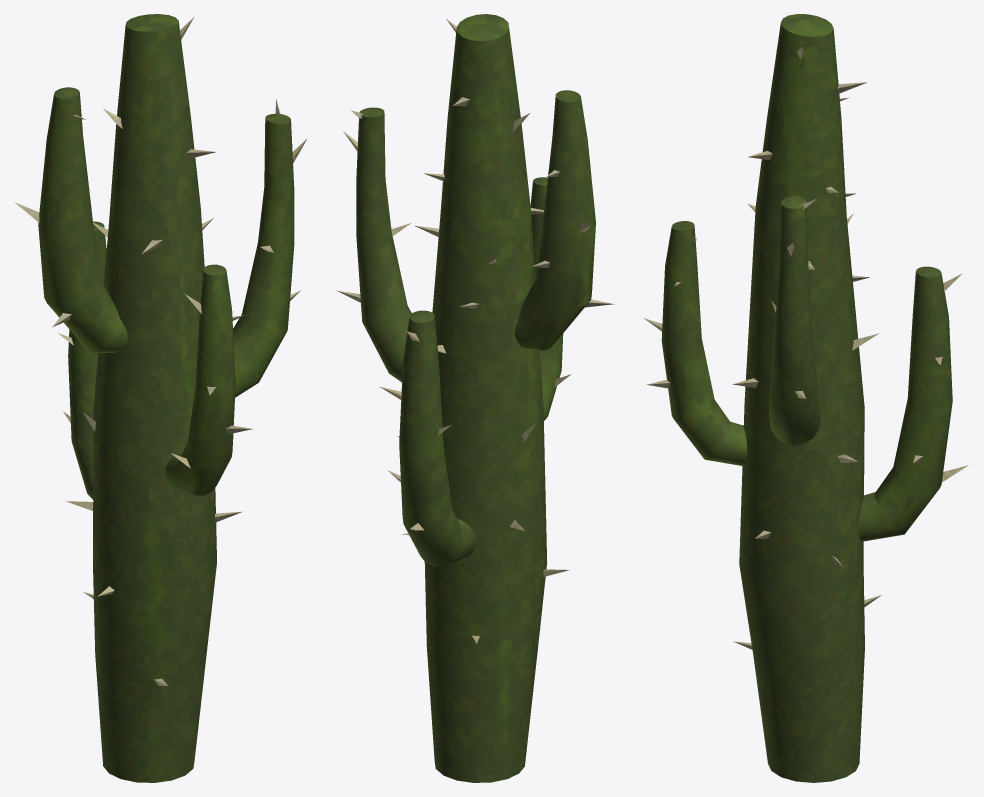
The model's file is Sm_CactusVer3.fbx.
3 views of the same model, side by side, from view 1: azimuth 30°, elevation 25°; view 2: azimuth 150°, elevation 25°; view 3: azimuth 270°, elevation 25° (orthographic).
Visible parts, largest first — view 1: Sm_CactusVer3; view 2: Sm_CactusVer3; view 3: Sm_CactusVer3.
Part boxes in pixels (x1,y1,x2,y2): Sm_CactusVer3: [15, 14, 307, 782]; Sm_CactusVer3: [337, 14, 614, 782]; Sm_CactusVer3: [644, 14, 968, 782].
Bounding box in the file's own units: 68.14 × 178 × 70.96.
